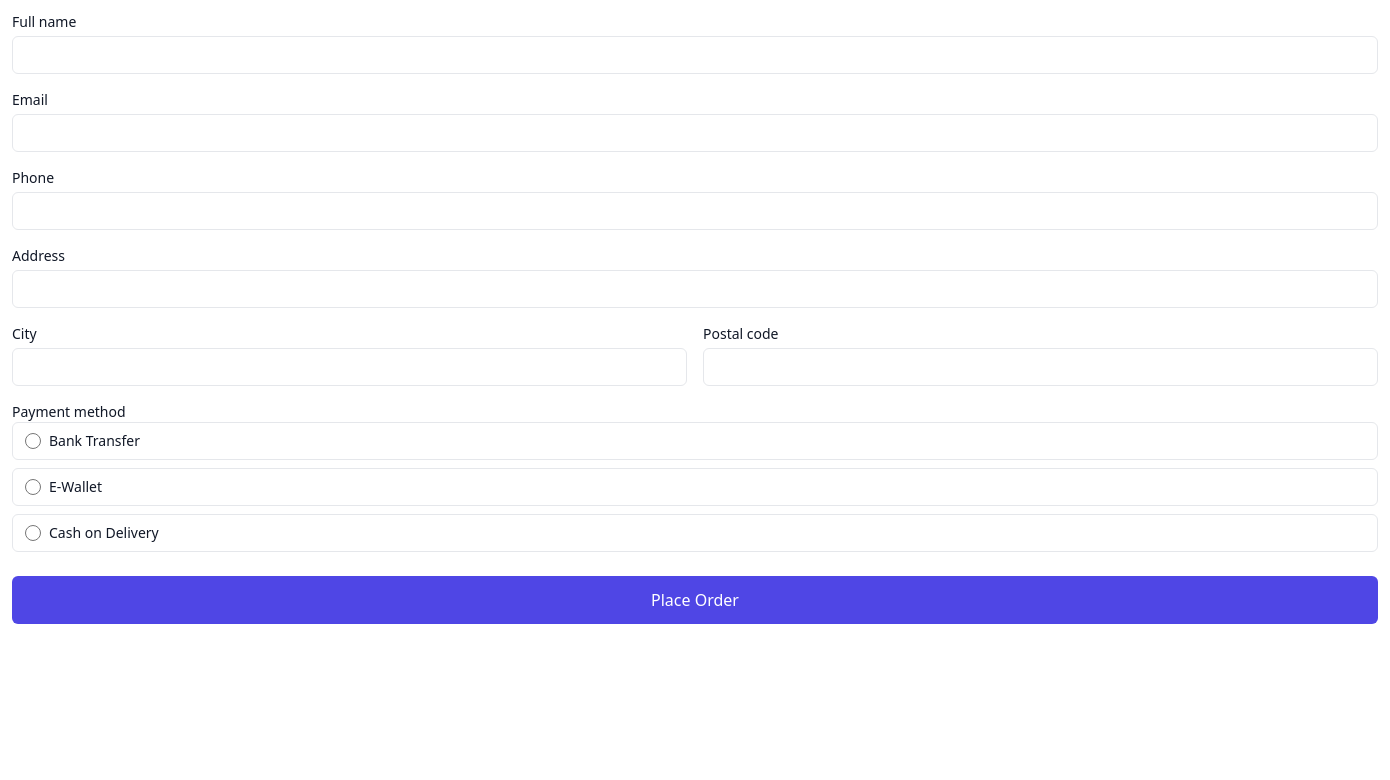
CheckoutForm › shows an email error for an invalid email
In the field labelled "Email": (695, 133) [12,114,1378,152], type "not-an-email"
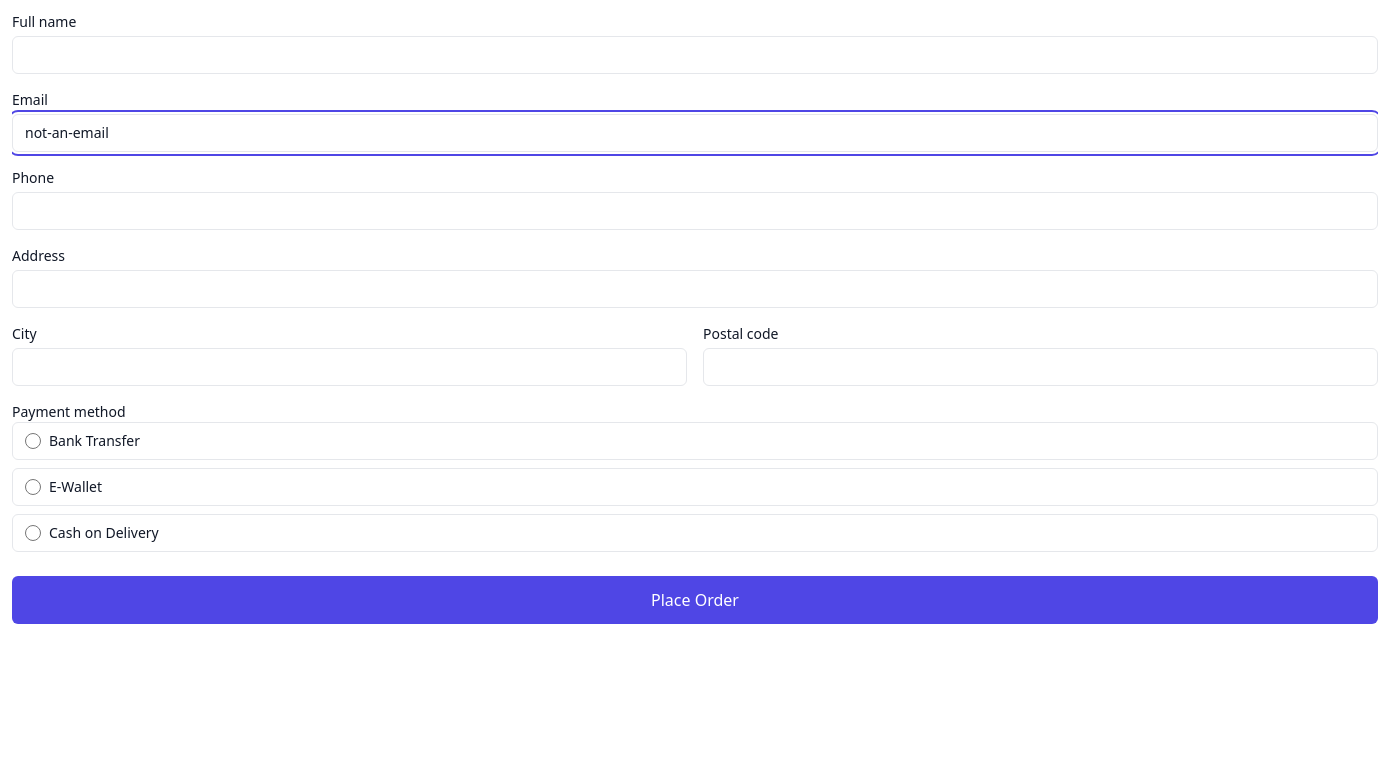
Click the button "Place Order": (695, 600) [12,576,1378,624]
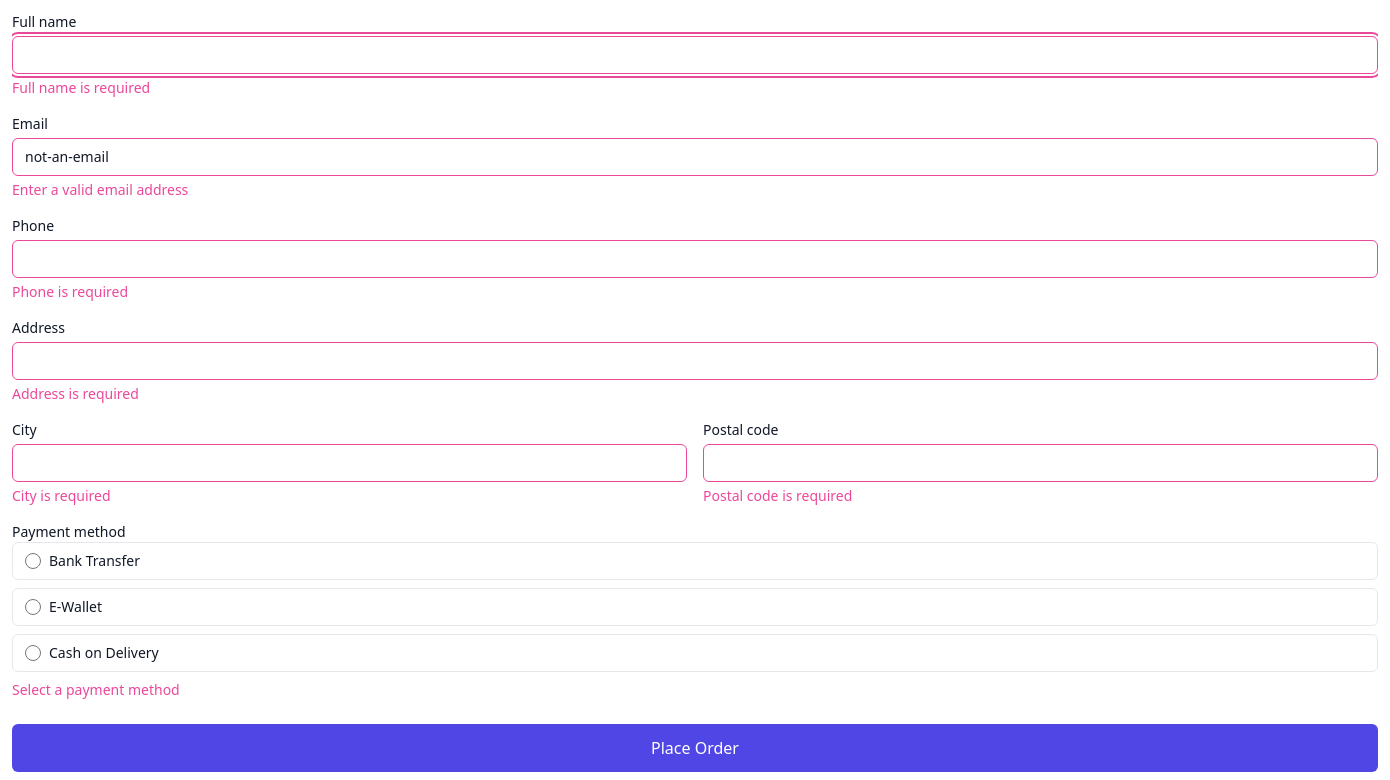
Expected: the text "Enter a valid email address" is shown, [12,180,188,199]
